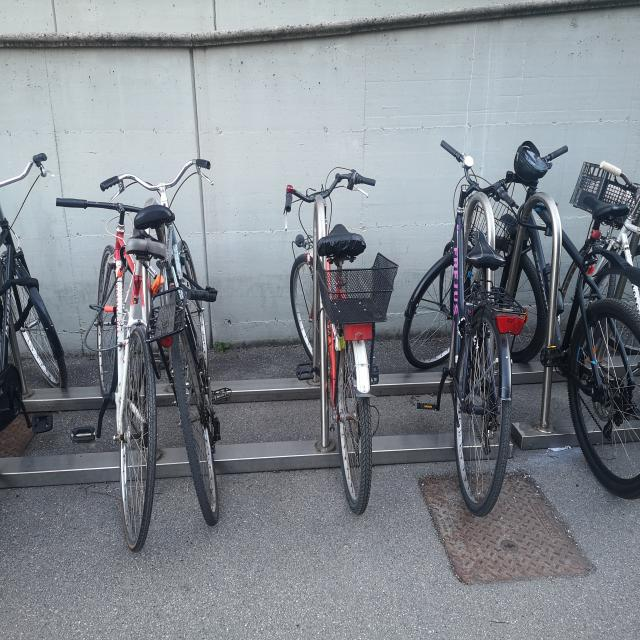Bicycle: (422, 181, 640, 538), (280, 158, 399, 570), (134, 141, 252, 544), (51, 160, 166, 566), (426, 120, 528, 554), (490, 132, 636, 399), (0, 143, 69, 512), (560, 130, 640, 314)
